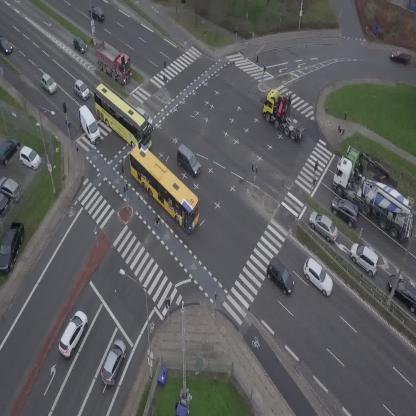bicycle: (153, 214, 161, 230)
bus: (117, 141, 211, 234), (82, 81, 162, 155)
car: (53, 308, 92, 359), (297, 256, 340, 298), (97, 337, 131, 387), (260, 256, 300, 296), (344, 239, 385, 278), (325, 192, 366, 230), (304, 208, 344, 245), (170, 143, 206, 177), (36, 72, 59, 96), (70, 78, 92, 101), (68, 35, 90, 57), (85, 3, 107, 24), (0, 31, 14, 55), (137, 105, 154, 123), (391, 49, 411, 62)
lorry: (254, 85, 317, 143), (342, 143, 404, 197), (86, 36, 140, 87), (73, 103, 104, 146)
